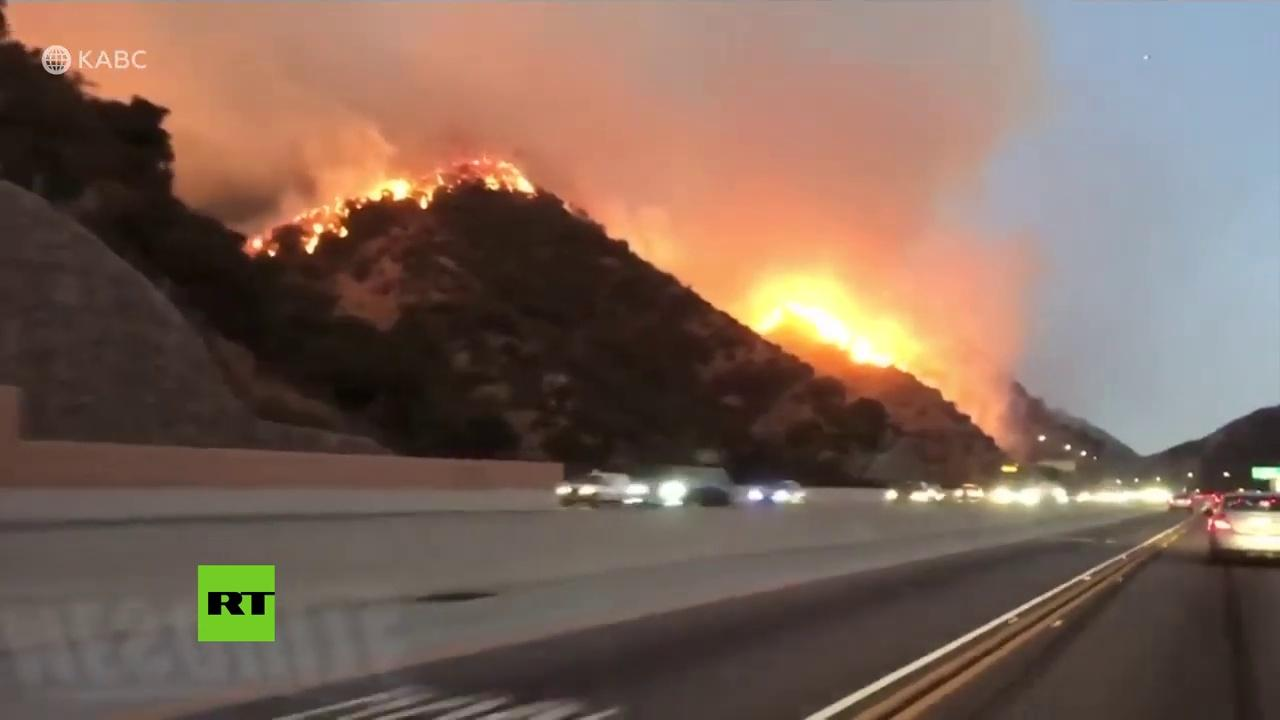Fire: (748, 275, 913, 370), (291, 179, 434, 251), (478, 157, 539, 199), (244, 235, 285, 258)
